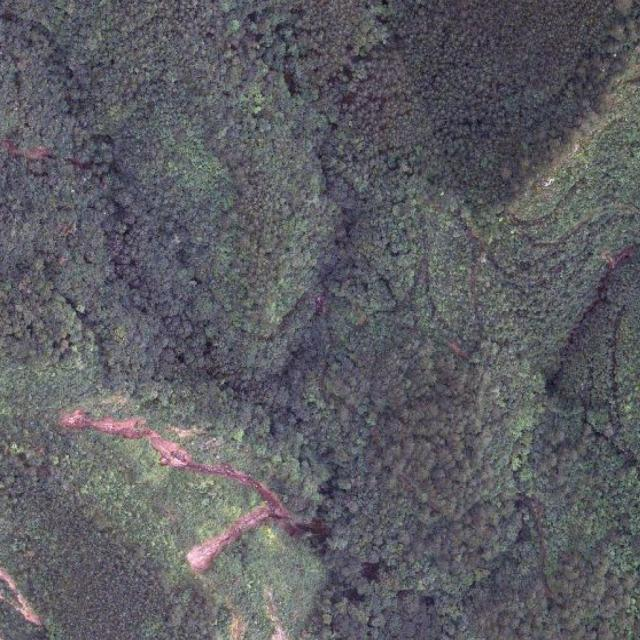landslide: (59, 411, 325, 575)
